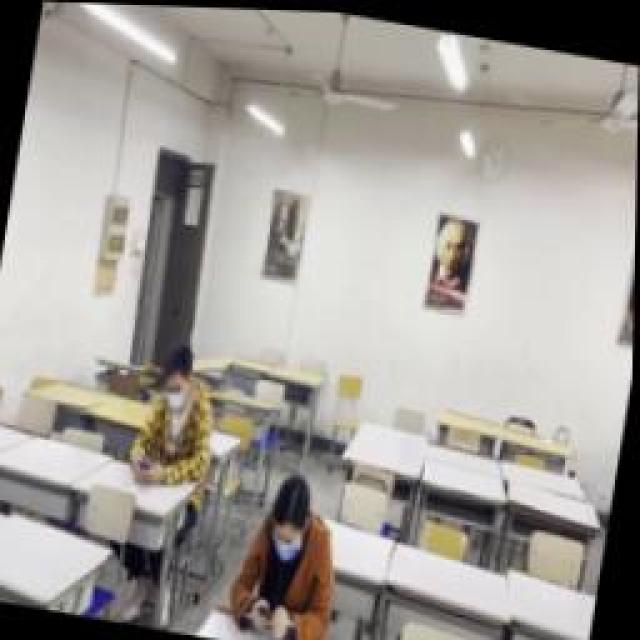phone: (228, 465, 350, 640), (130, 343, 225, 485)
